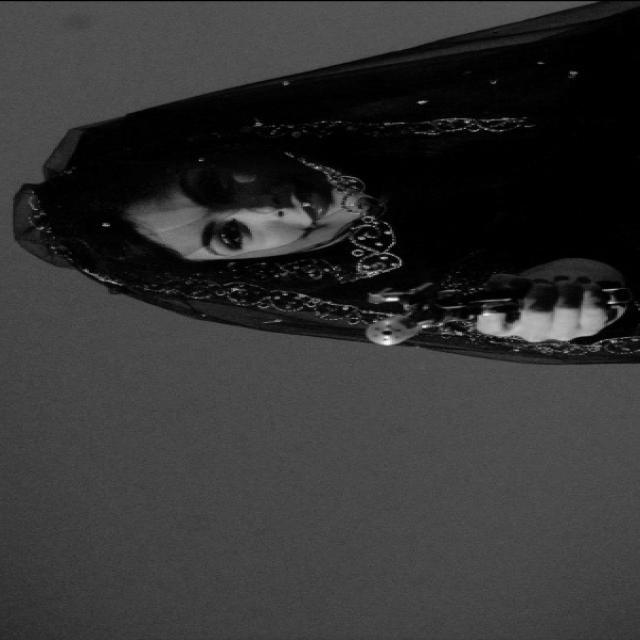weapons: (336, 262, 590, 354)
